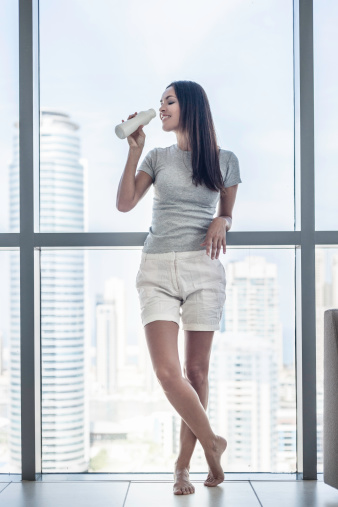em pe: (94, 65, 242, 496)
